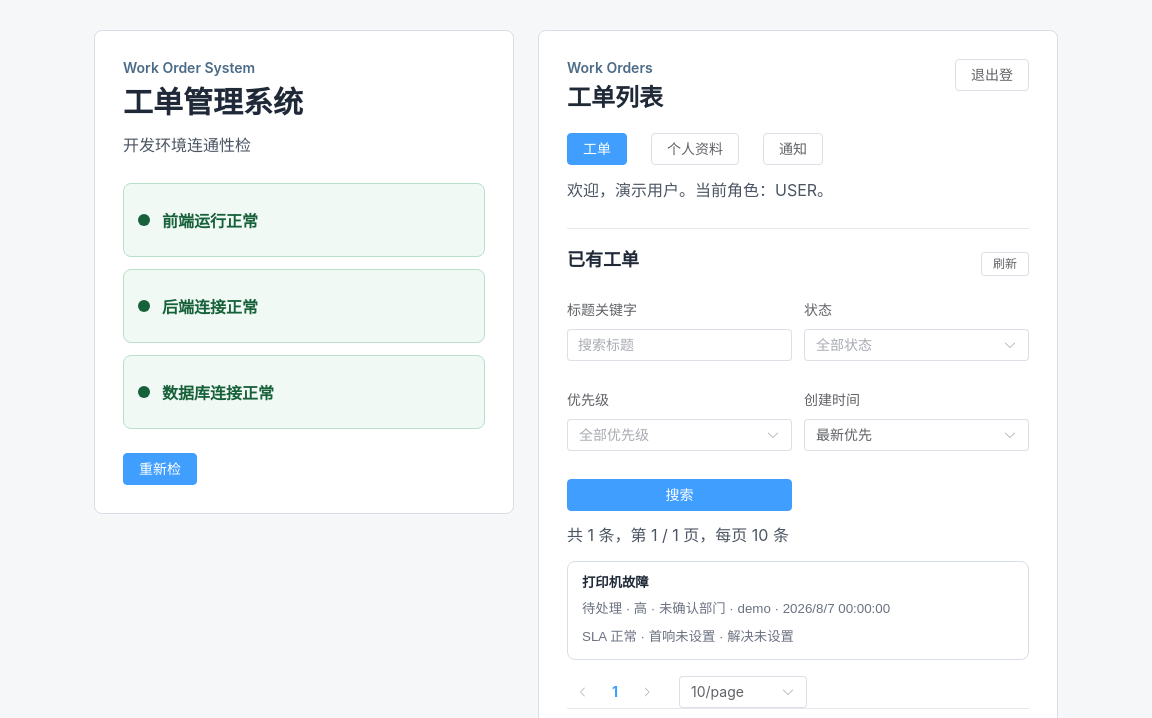
Scenario: App › loads and renders work order attachments on the detail page
This screenshot has width=1152, height=718.
What coordinates should you click on to do the following:
click the button with class "work-order-item"
I would click on:
 (798, 610)
Its box is [567,561,1029,660].
(page scrolled)
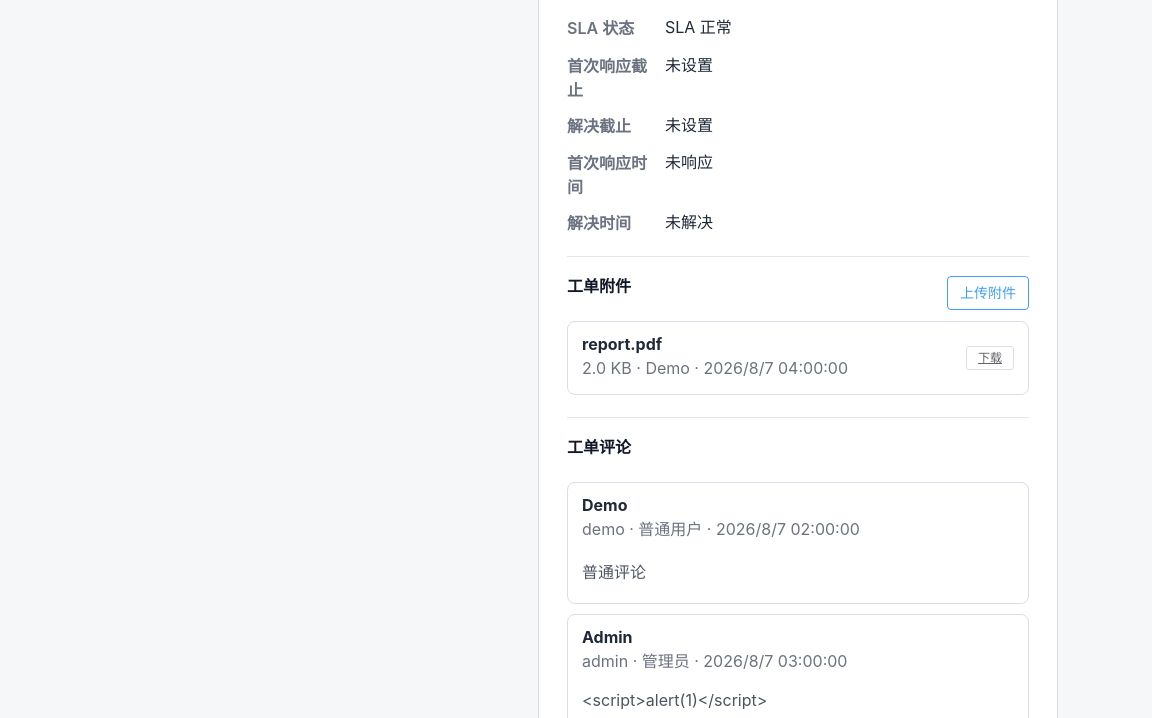
expect the text "report.pdf" is shown: met, box [582,334,662,354]
expect the text "2.0 KB" is shown: met, box [582,358,848,378]
expect the link to "/api/work-orders/10/attachments/1/download" is shown: met, box [966,346,1014,370]
